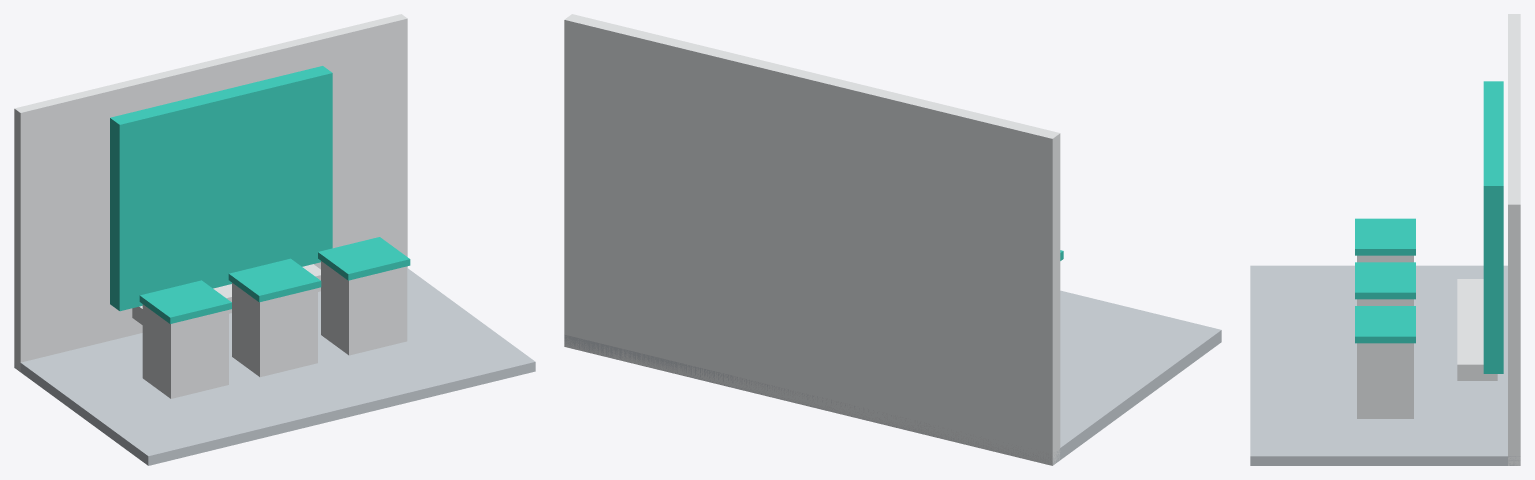
3 views of the same model, side by side, from view 1: azimuth 30°, elevation 25°; view 2: azimuth 150°, elevation 25°; view 3: azimuth 270°, elevation 25° (orthographic). The views are drawn at different scales.
Visible parts, largest first — view 1: Exhibition Booth Concept; view 2: Exhibition Booth Concept; view 3: Exhibition Booth Concept.
Boxes of the visible parts, x1,y1,x2,y2 form: Exhibition Booth Concept: [14, 14, 535, 465]; Exhibition Booth Concept: [564, 14, 1221, 465]; Exhibition Booth Concept: [1250, 14, 1520, 465].
Size of the model in its own units: 5 by 3.2 by 3.
